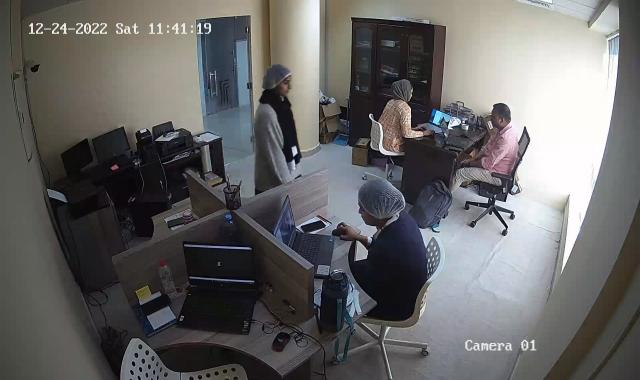hairnet: (354, 176, 408, 223), (263, 64, 293, 97)
no_hairnet: (490, 102, 514, 130), (390, 77, 414, 103)
